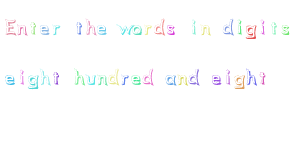E: (3, 15, 17, 39)
a: (164, 70, 176, 89)
d: (188, 63, 203, 89), (140, 62, 156, 86), (153, 13, 166, 39), (221, 15, 234, 41), (107, 65, 120, 88)
e: (207, 71, 224, 89), (4, 68, 15, 91), (38, 22, 51, 38), (130, 72, 142, 89), (97, 21, 108, 39)
g: (244, 24, 259, 43), (232, 72, 245, 93), (27, 75, 40, 92)
h: (73, 61, 87, 89), (246, 62, 258, 89), (85, 15, 97, 39), (39, 67, 52, 88)
i: (187, 15, 199, 38), (15, 69, 27, 89), (221, 68, 233, 87), (257, 14, 267, 36), (235, 16, 243, 38)
n: (200, 22, 214, 38), (97, 71, 108, 89), (177, 74, 189, 87), (16, 23, 27, 36)
o: (132, 23, 144, 38)
r: (143, 20, 153, 38), (51, 23, 64, 35), (120, 72, 129, 87)
s: (166, 22, 179, 41), (280, 23, 294, 38)
t: (257, 71, 272, 88), (268, 19, 279, 38), (28, 19, 38, 37), (52, 69, 62, 87), (73, 20, 83, 37)
u: (85, 72, 97, 86)
w: (115, 21, 133, 39)
